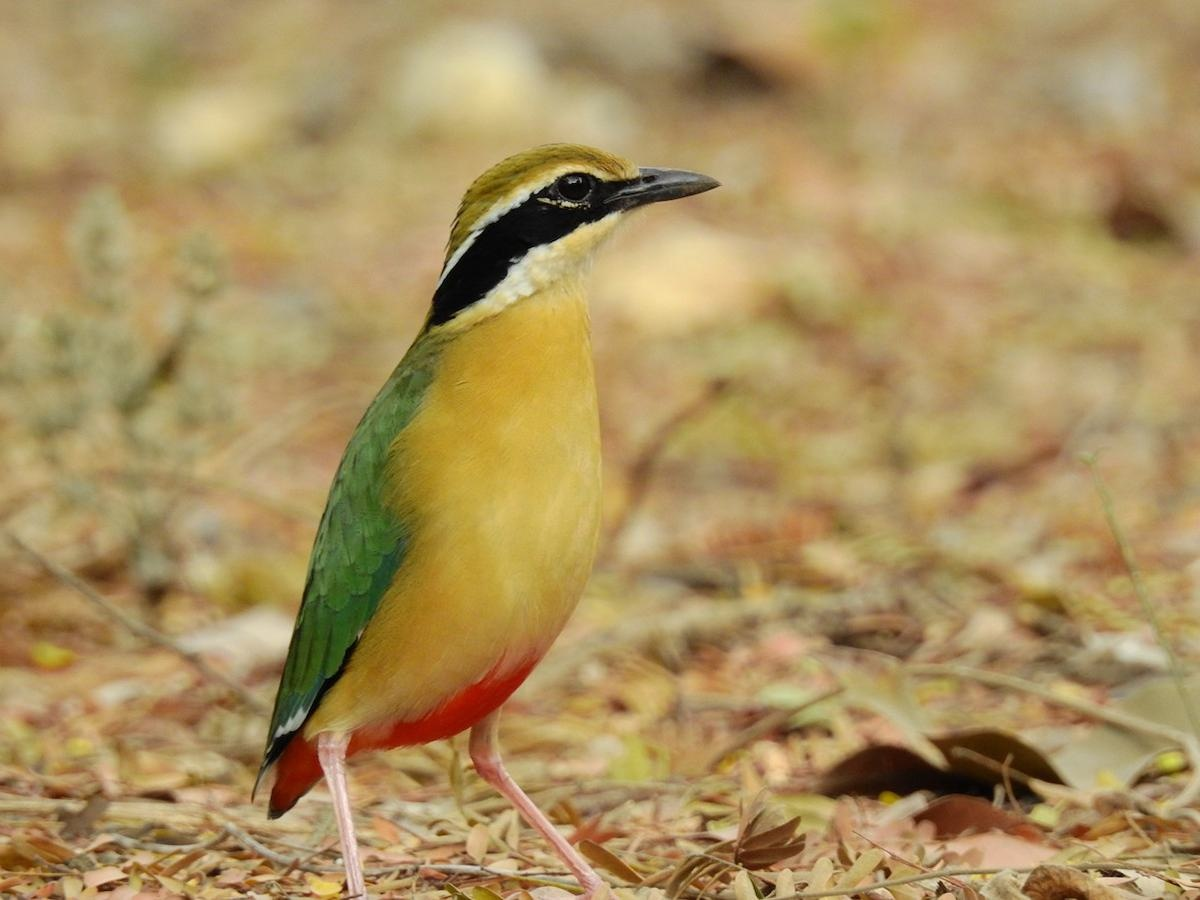pitta: (190, 115, 786, 855)
